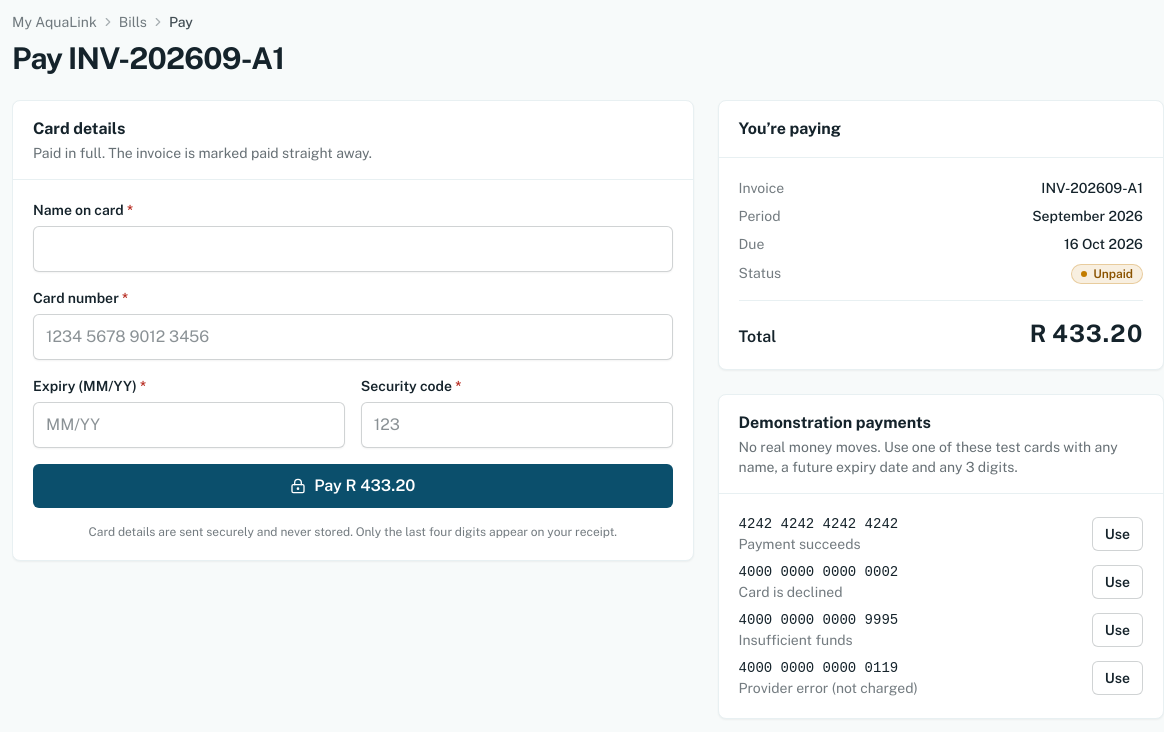
Test: PayInvoicePage › shows what is being paid, and formats the card as you type
Expected: the heading "Pay INV-202609-A1" is shown, top-left (12, 40), bottom-right (284, 76)
Step 1. Type "4242424242424242" into the field labelled "Card number *" → (353, 337), box top-left (33, 314), bottom-right (673, 360)
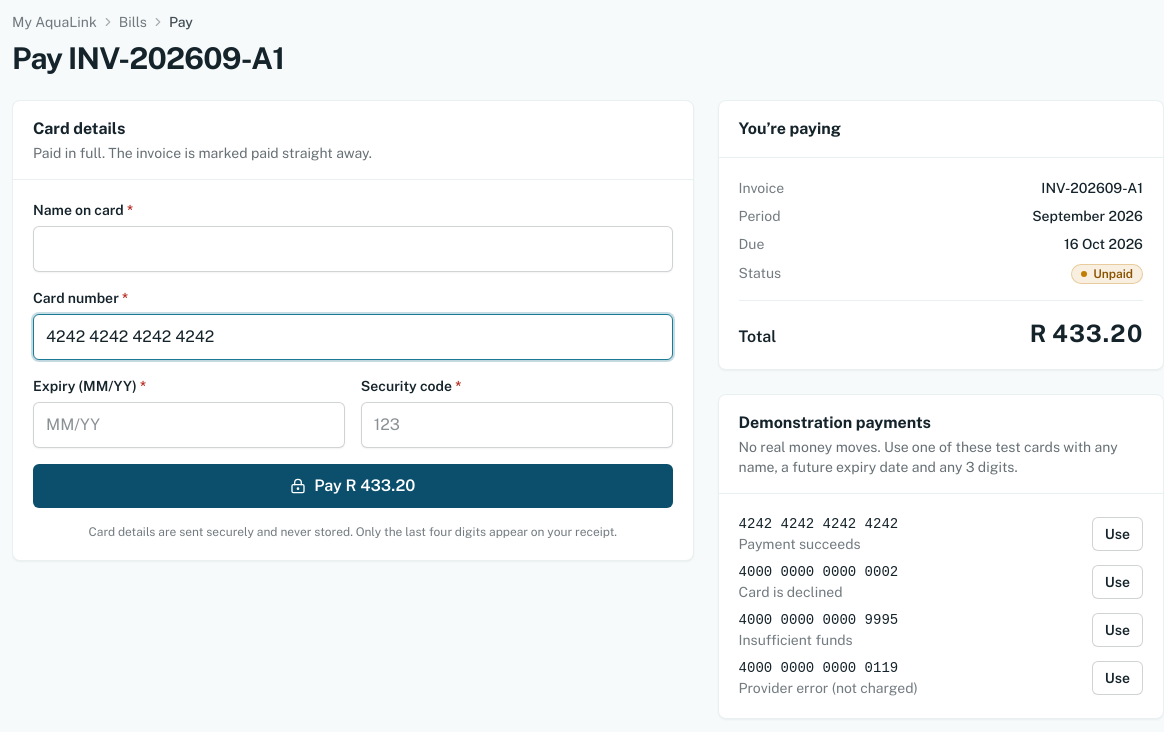
Expected: the field labelled "Card number *" holds "4242 4242 4242 4242", top-left (33, 314), bottom-right (673, 360)
Step 2. Type "1228" into the field labelled "Expiry (MM/YY) *" → (189, 425), box top-left (33, 402), bottom-right (345, 448)
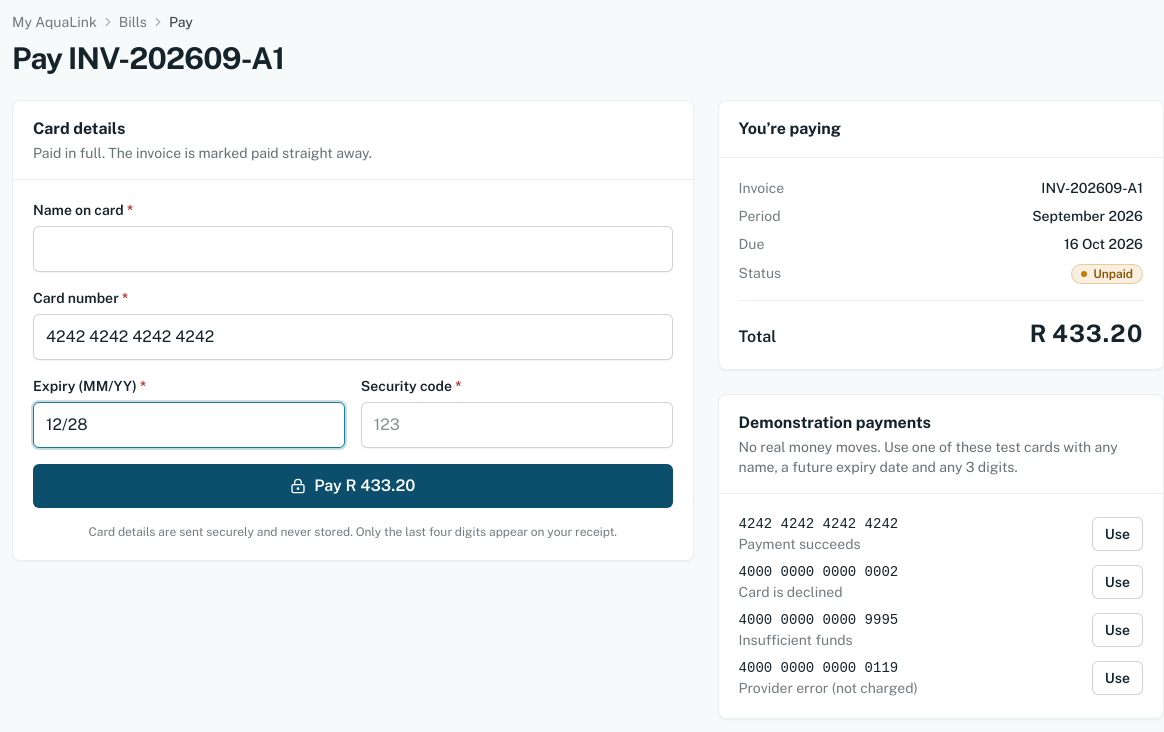
Expected: the field labelled "Expiry (MM/YY) *" holds "12/28", top-left (33, 402), bottom-right (345, 448)
